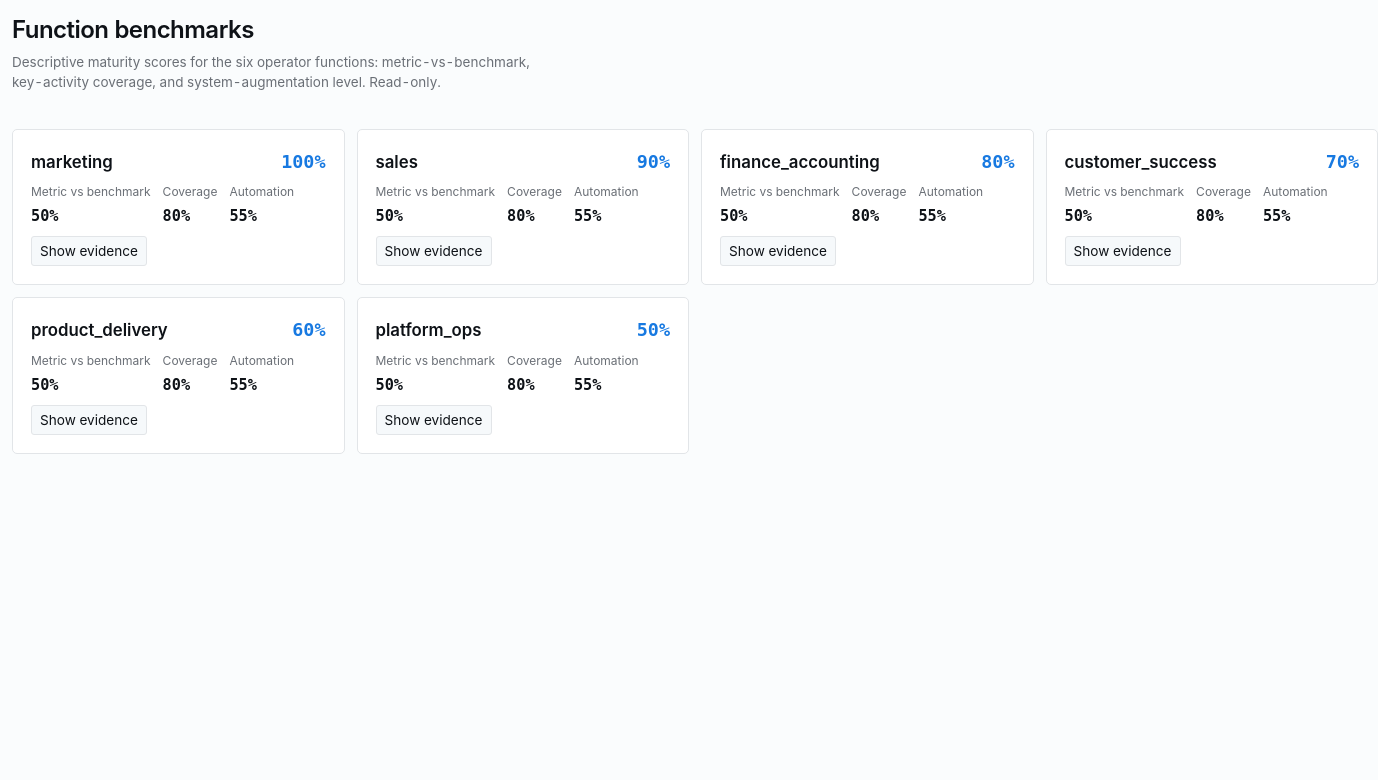
it: AC-10: BenchmarkReport ready state › drill-down reveals evidence and no recommendation UI
The image size is (1378, 780).
What coordinates should you click on to do the following:
click the button with test id "benchmark-expander" below "marketing"
I would click on:
 (89, 251)
Its box is top-left (31, 236), bottom-right (147, 266).
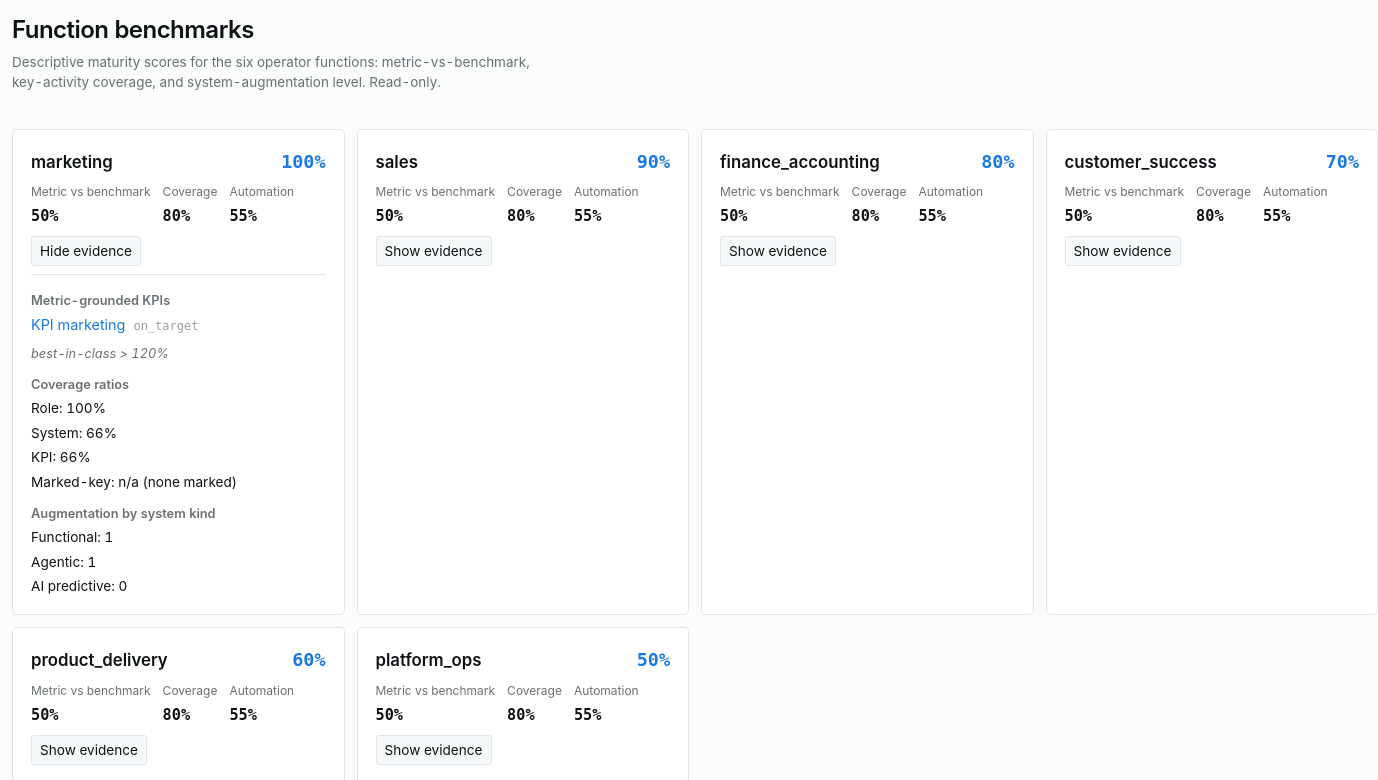
Expected: the button with test id "benchmark-expander" is expanded, top-left (31, 236), bottom-right (141, 266)
Expected: the element with test id "benchmark-evidence" is shown, top-left (31, 274), bottom-right (326, 596)
